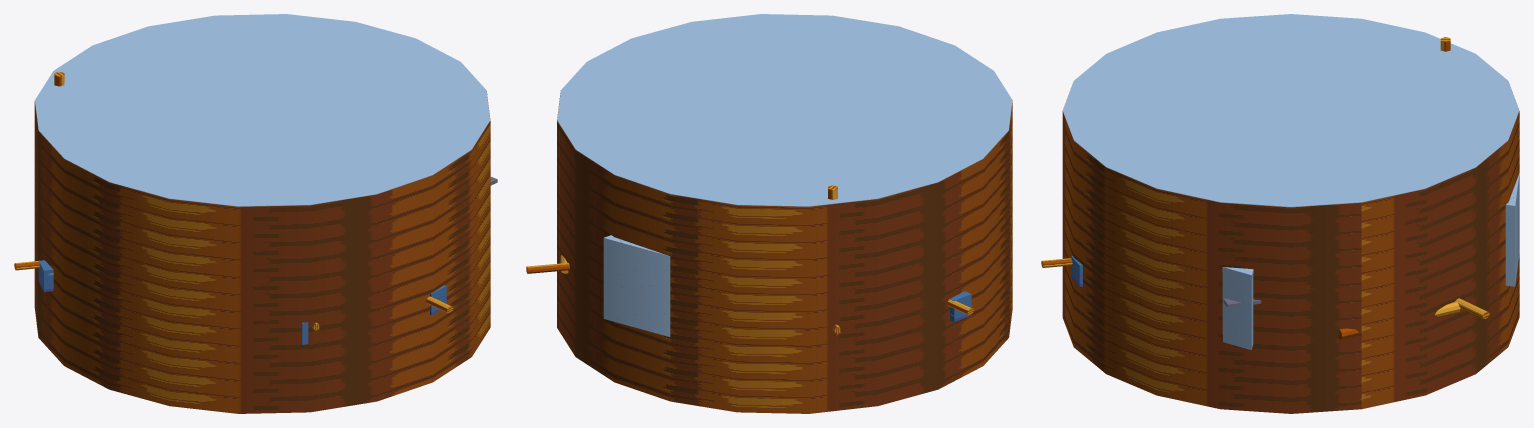
Rendered from Level2.fbx.
3 views of the same model, side by side, from view 1: azimuth 30°, elevation 25°; view 2: azimuth 150°, elevation 25°; view 3: azimuth 270°, elevation 25° (orthographic).
Visible parts, largest first — view 1: pCylinder3, Outerwall2, Outerwall1, Outerwall; view 2: pCylinder3, Outerwall2, Outerwall1, Outerwall, Walls1; view 3: pCylinder3, Outerwall2, Outerwall1, Outerwall, Walls3, Walls1.
Boxes of the visible parts, x1,y1,x2,y2 form: pCylinder3: (35, 14, 490, 206); Outerwall2: (34, 91, 490, 276); Outerwall1: (34, 240, 490, 413); Outerwall: (34, 171, 490, 345); pCylinder3: (557, 14, 1012, 206); Outerwall2: (557, 90, 1012, 276); Outerwall1: (557, 241, 1012, 413); Outerwall: (557, 172, 1012, 345); Walls1: (603, 235, 670, 336); pCylinder3: (1062, 14, 1519, 207); Outerwall2: (1062, 111, 1519, 276); Outerwall1: (1062, 250, 1519, 413); Outerwall: (1062, 181, 1505, 345); Walls3: (1222, 267, 1253, 349); Walls1: (1505, 173, 1519, 286).
Size of the model in its own units: 20.74 by 10.17 by 20.35.
